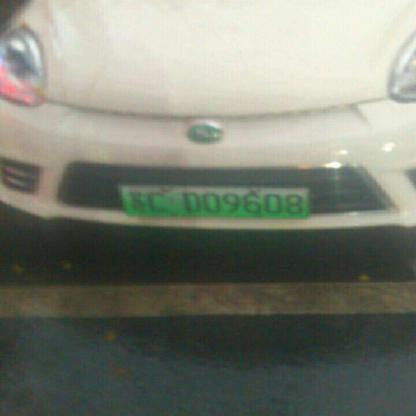lp: (120, 185, 308, 218)
